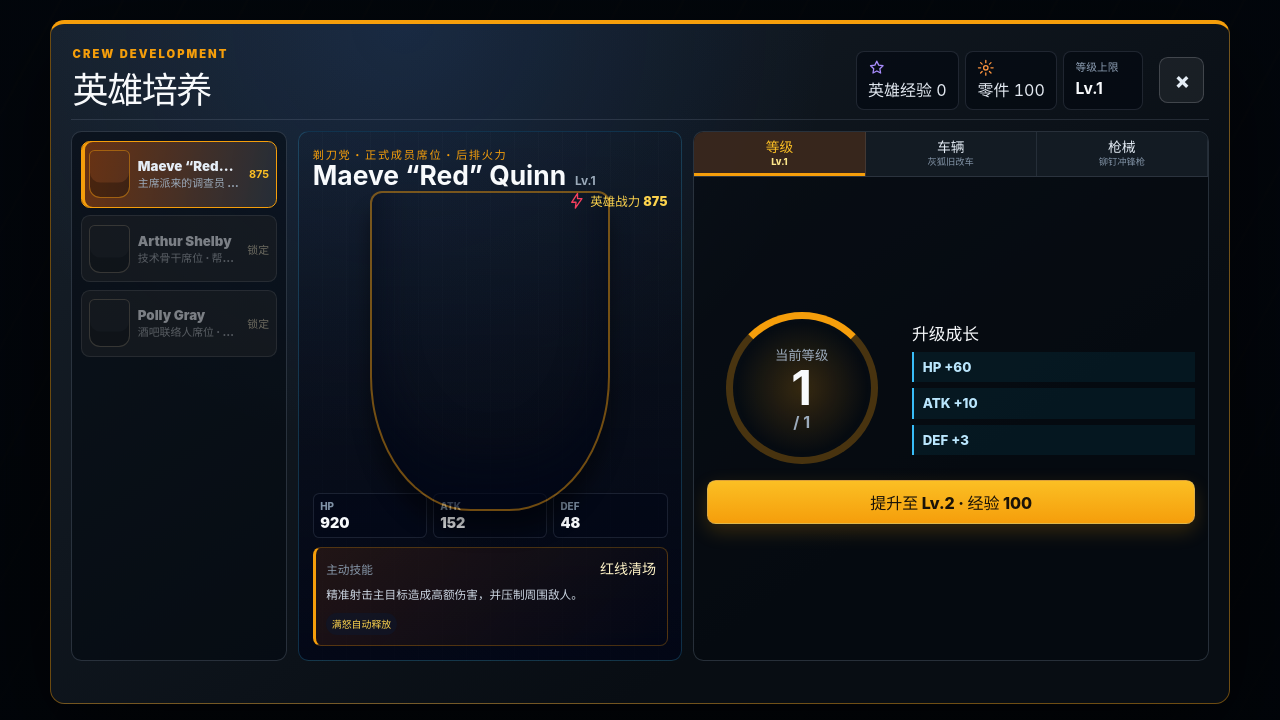
Scenario: HeroesPanel › upgrades the equipped gun with recycled spare parts
Click the button "枪械 铆钉冲锋枪": (1122, 154) [1037,132,1208,176]
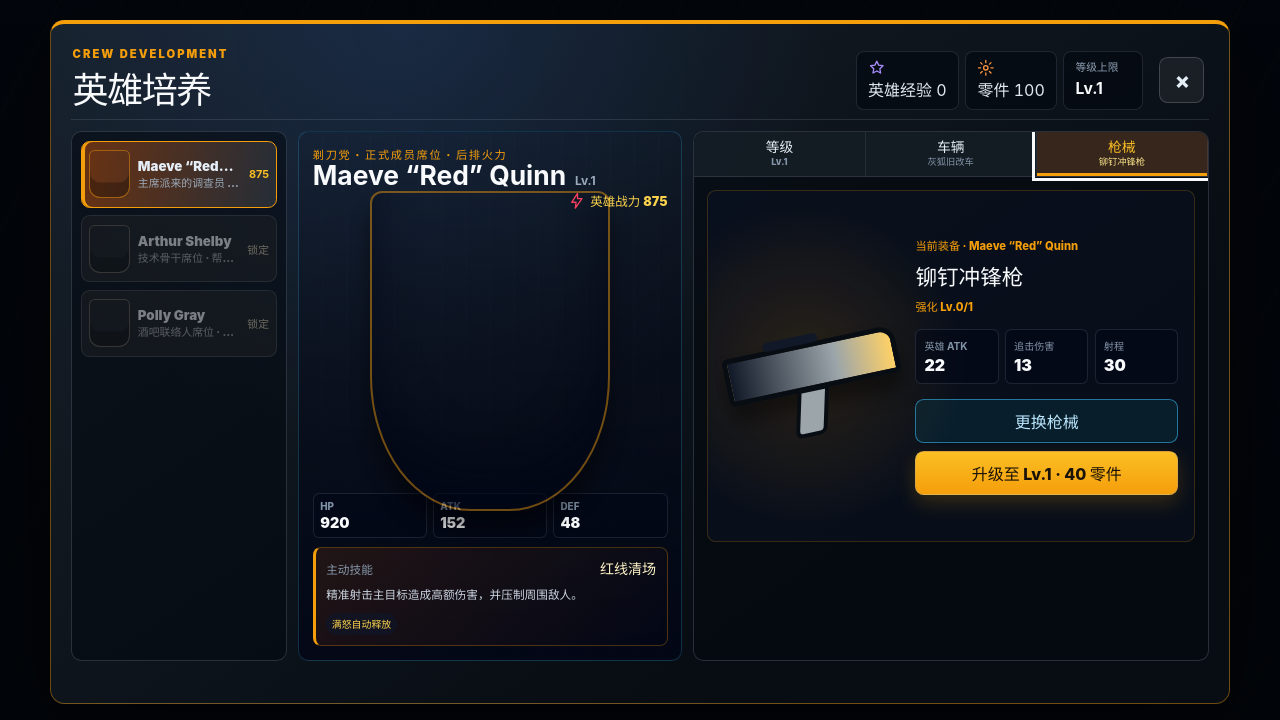
Click the button "升级至 Lv.1 · 40 零件": (1047, 473) [915,451,1178,495]
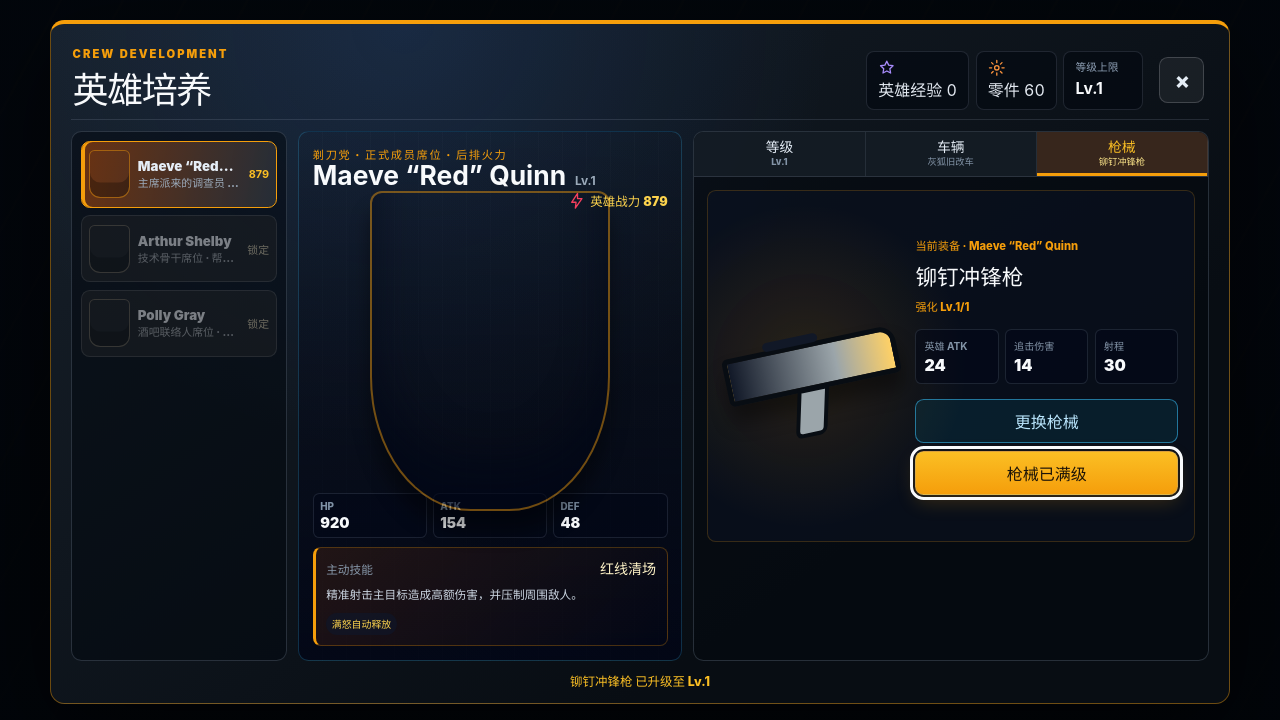
Expected: the text "强化 Lv.1/1" is shown, [915,300,970,314]
